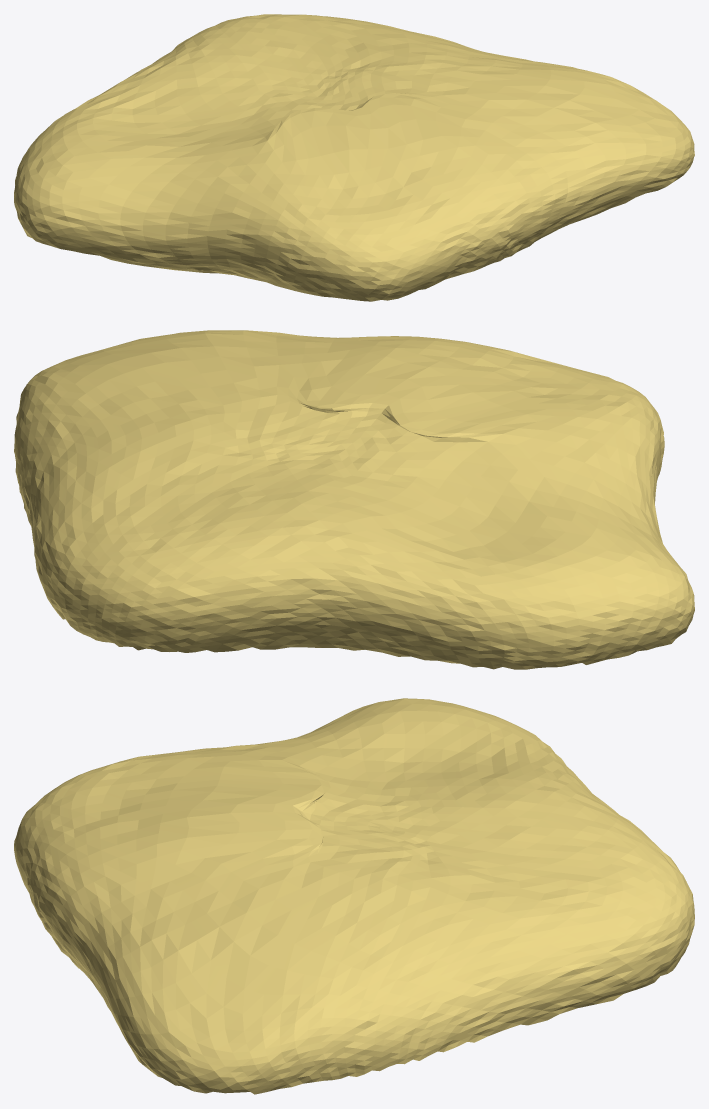
File: isla.glb
3 views of the same model, one above another, from view 1: azimuth 30°, elevation 25°; view 2: azimuth 150°, elevation 25°; view 3: azimuth 270°, elevation 25° (orthographic). The views are drawn at different scales.
Parts seen in each view (by area): view 1: Icosphere; view 2: Icosphere; view 3: Icosphere.
Part boxes in pixels (x1,y1,x2,y2): Icosphere: [14, 14, 694, 301]; Icosphere: [14, 330, 694, 669]; Icosphere: [14, 698, 694, 1094].
Bounding box in the file's own units: 13.1 × 2.18 × 10.81.
